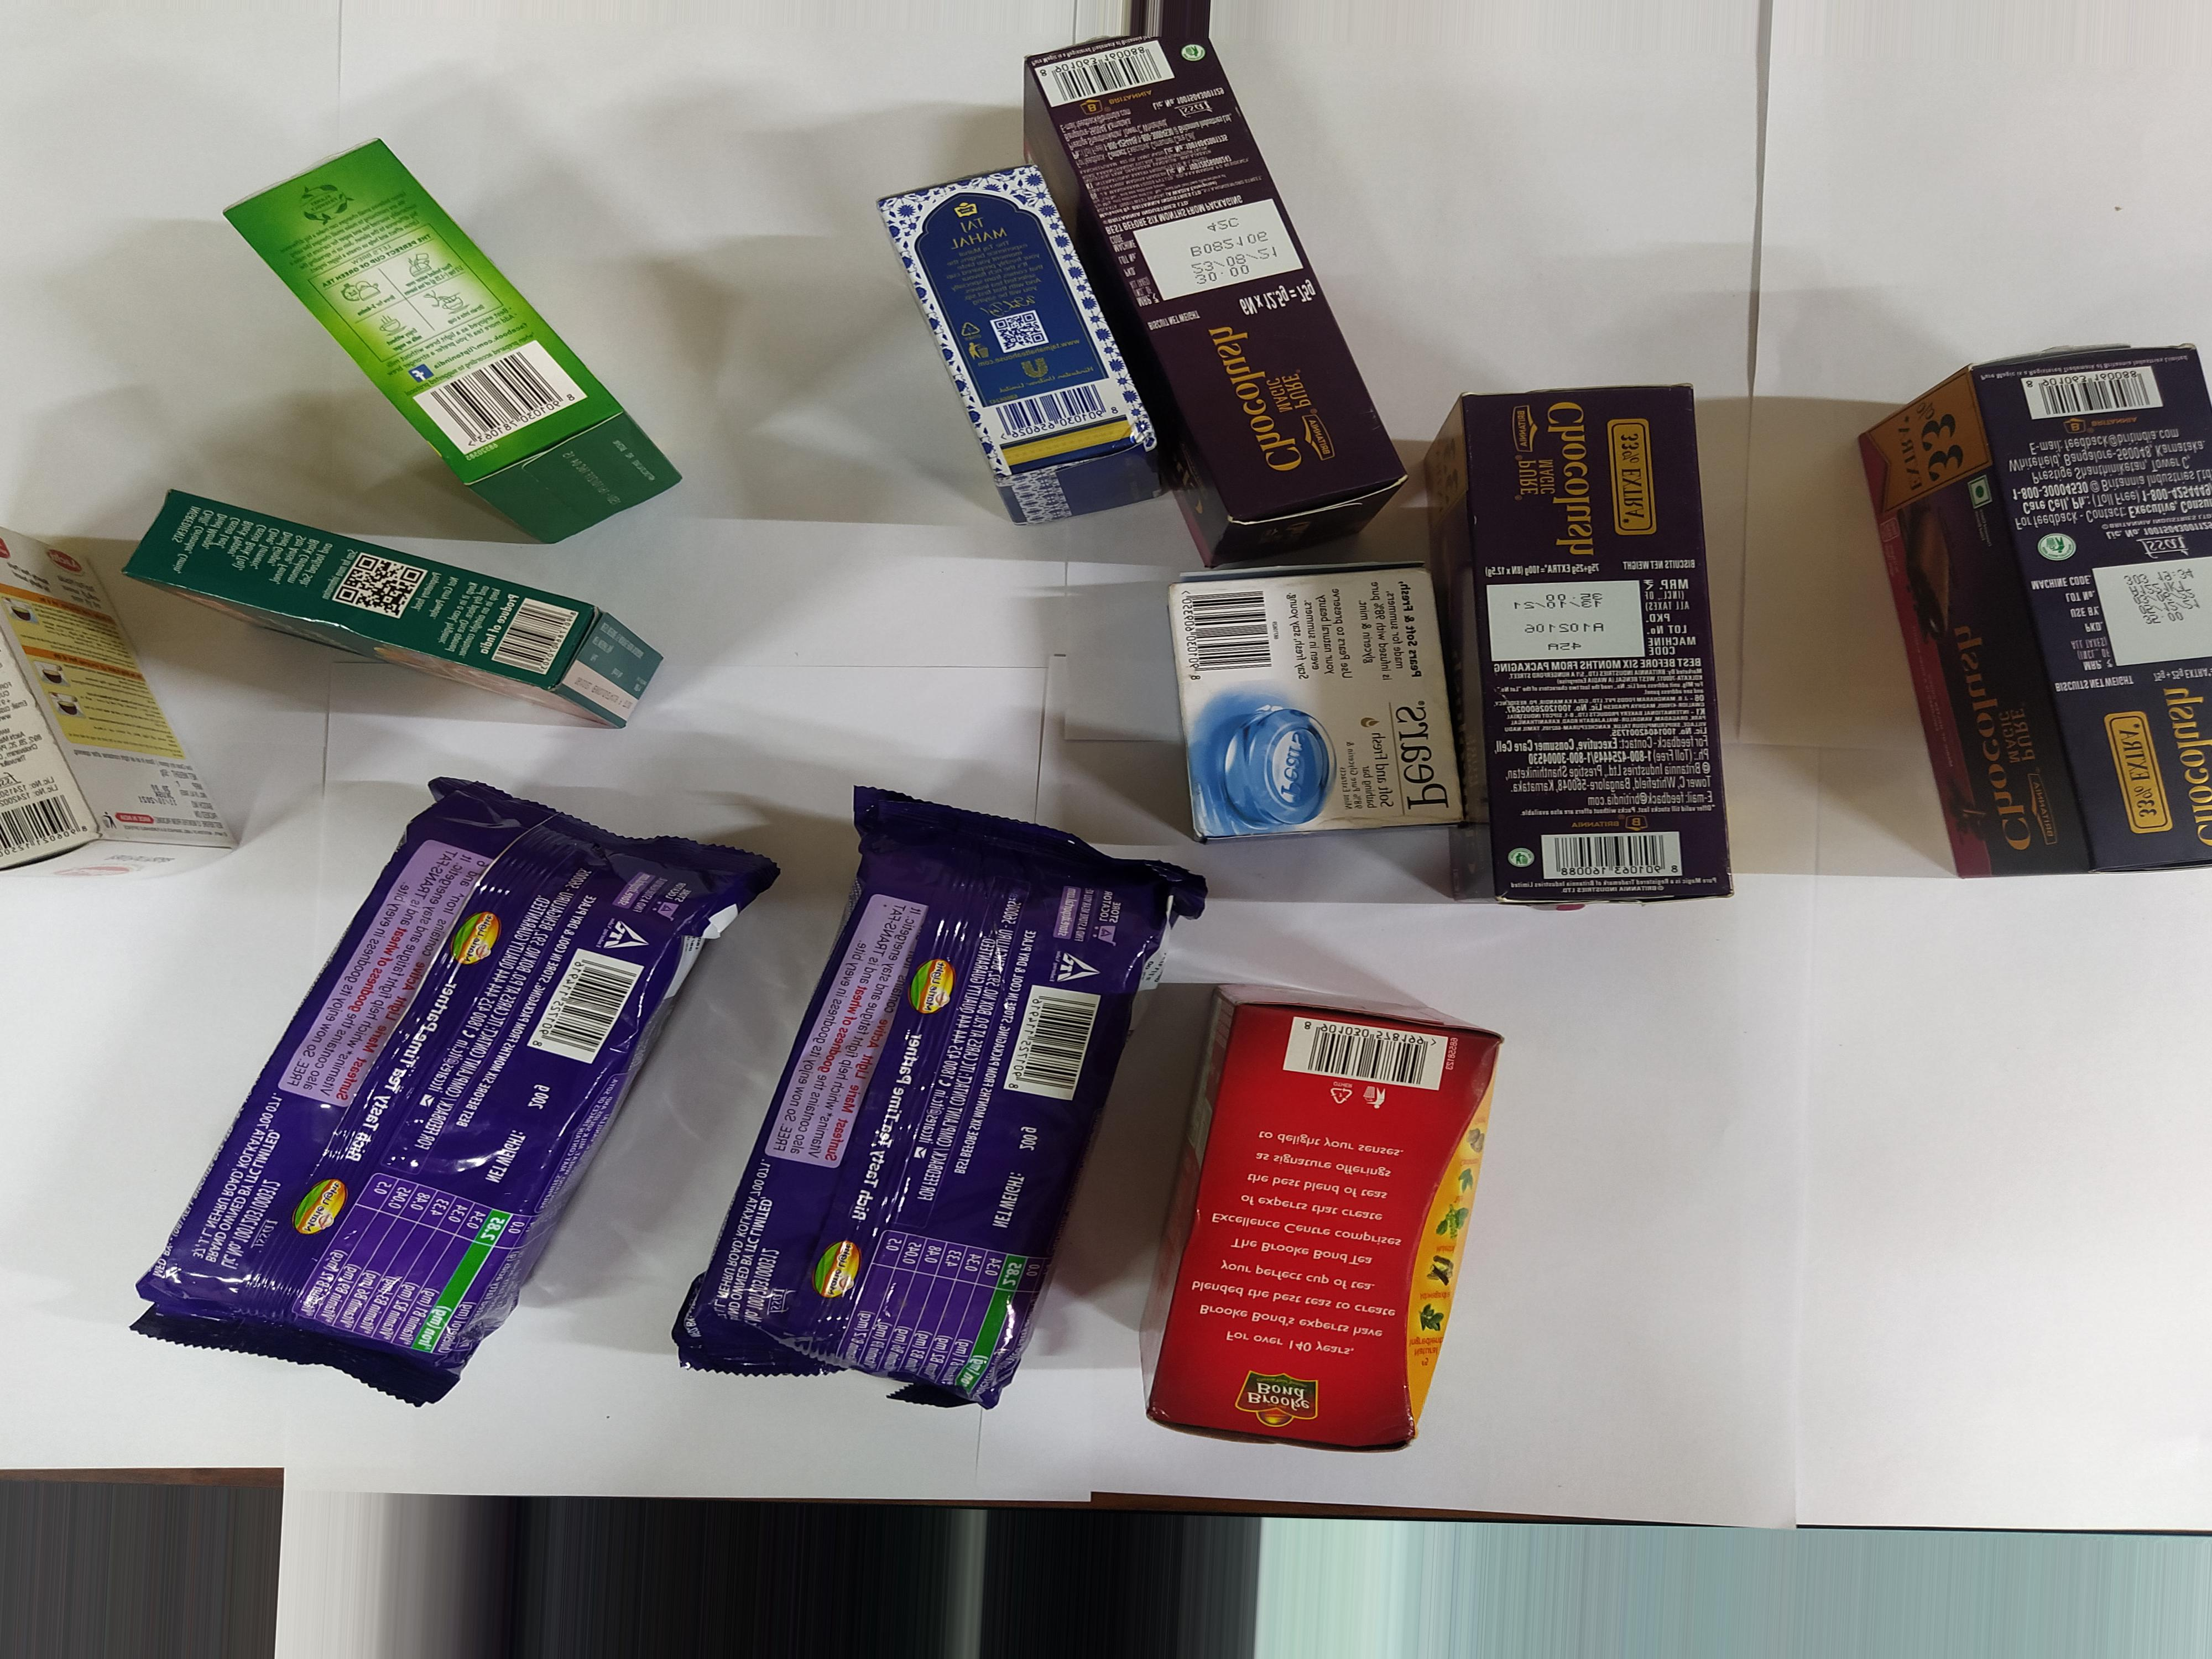Bar_code: (411, 342, 596, 451), (1271, 1009, 1454, 1107), (1153, 580, 1298, 683), (528, 943, 632, 1082), (1524, 823, 1696, 896), (488, 579, 589, 697), (1996, 357, 2175, 422), (1017, 985, 1085, 1122), (982, 385, 1144, 437), (0, 781, 106, 856), (1031, 45, 1183, 98)
Item: (146, 781, 719, 1425), (702, 718, 1144, 1429), (141, 120, 690, 552), (1824, 298, 2200, 915), (996, 23, 1409, 547), (1393, 375, 1764, 932), (1162, 969, 1519, 1486), (101, 458, 671, 744), (834, 145, 1170, 525), (1155, 549, 1477, 854), (0, 535, 235, 908)
QR_code: (326, 551, 432, 619), (986, 300, 1054, 356)
